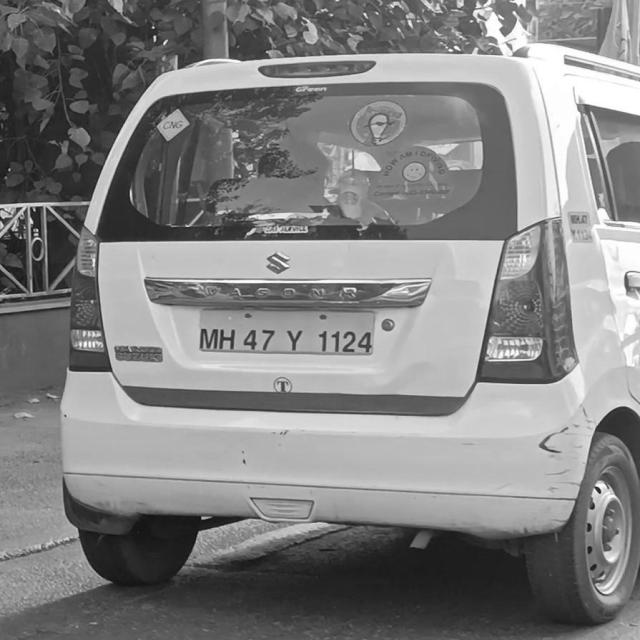car: (52, 37, 640, 629)
license-plate: (196, 308, 378, 360)
